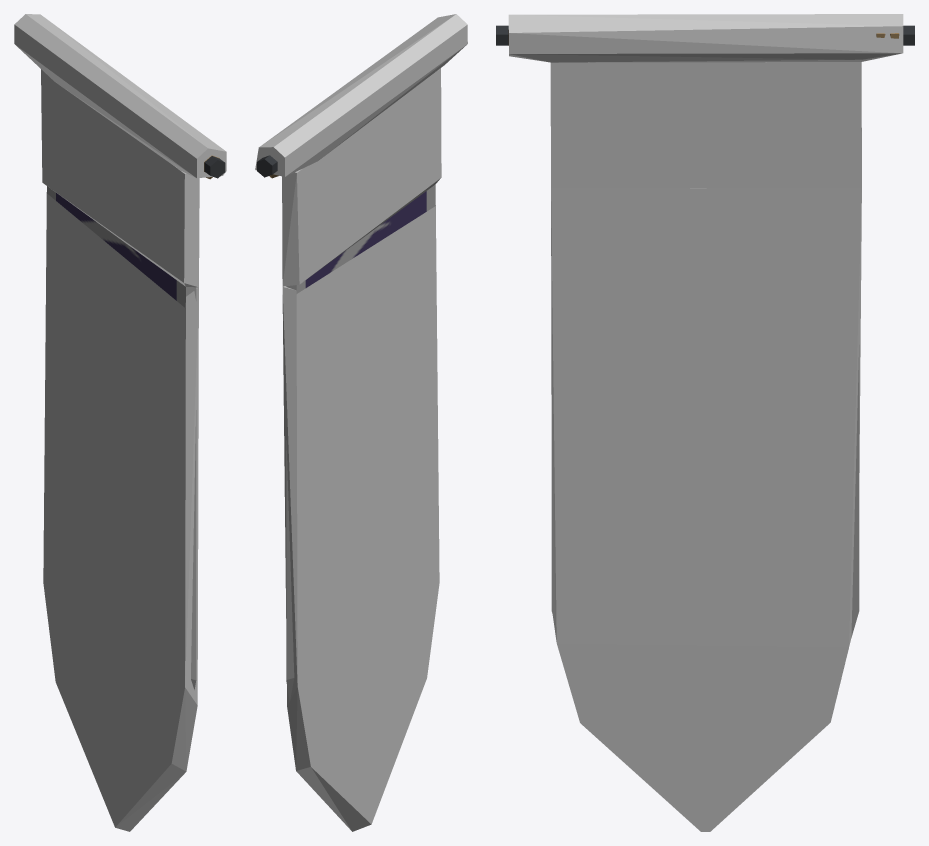
File: SM_Prop_Flag_01.fbx
The picture shows the model from 3 angles, left to right: view 1: azimuth 30°, elevation 25°; view 2: azimuth 150°, elevation 25°; view 3: azimuth 270°, elevation 25°; orthographic projection. The views are drawn at different scales.
Parts seen in each view (by area): view 1: SM_Prop_Flag_01_ConvexHulls, SM_Prop_Flag_01; view 2: SM_Prop_Flag_01_ConvexHulls, SM_Prop_Flag_01; view 3: SM_Prop_Flag_01_ConvexHulls, SM_Prop_Flag_01.
Boxes of the visible parts, left/top/right/bottom form: SM_Prop_Flag_01_ConvexHulls: left=14, top=14, right=226, bottom=831; SM_Prop_Flag_01: left=47, top=155, right=225, bottom=689; SM_Prop_Flag_01_ConvexHulls: left=255, top=14, right=467, bottom=831; SM_Prop_Flag_01: left=257, top=155, right=435, bottom=701; SM_Prop_Flag_01_ConvexHulls: left=508, top=14, right=903, bottom=831; SM_Prop_Flag_01: left=496, top=25, right=914, bottom=637.
Size of the model in its own units: 8.54 by 95.95 by 205.
Materials: 2 (1 with a texture image).
